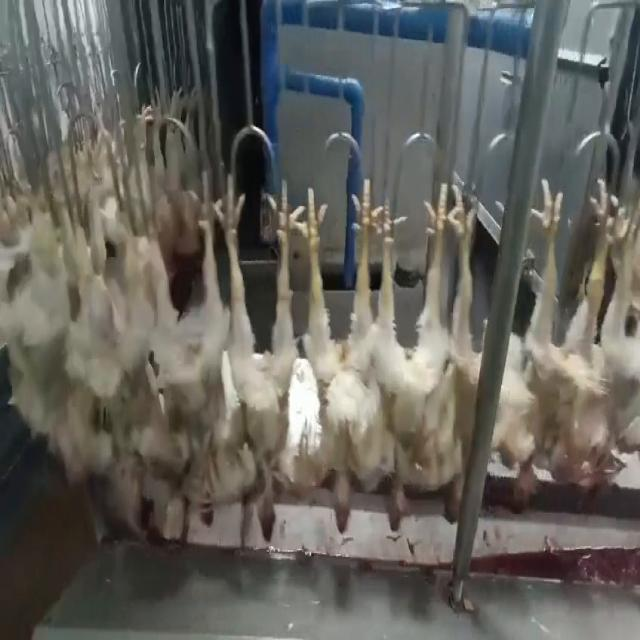chicken: (498, 166, 619, 507), (369, 177, 460, 532), (222, 171, 306, 548), (302, 169, 381, 534), (142, 183, 221, 530), (430, 179, 488, 520), (85, 210, 148, 523), (607, 166, 639, 487)
